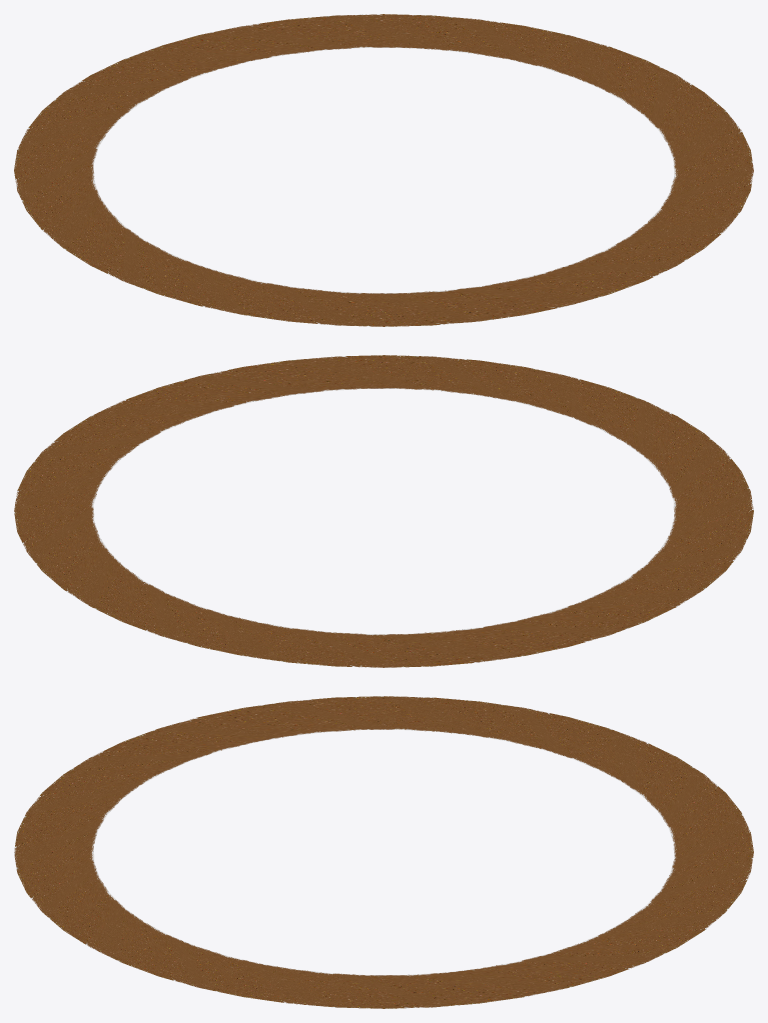
Rendered from DustRing.fbx.
The picture shows the model from 3 angles, top to bottom: view 1: azimuth 30°, elevation 25°; view 2: azimuth 150°, elevation 25°; view 3: azimuth 270°, elevation 25°; orthographic projection.
Parts seen in each view (by area): view 1: Ring of Debris; view 2: Ring of Debris; view 3: Ring of Debris.
Part boxes in pixels (left/top/right/bottom): Ring of Debris: left=14, top=14, right=753, bottom=326; Ring of Debris: left=14, top=355, right=753, bottom=667; Ring of Debris: left=14, top=696, right=753, bottom=1008.
Bounding box in the file's own units: 14134 × 0.00524 × 14134.
